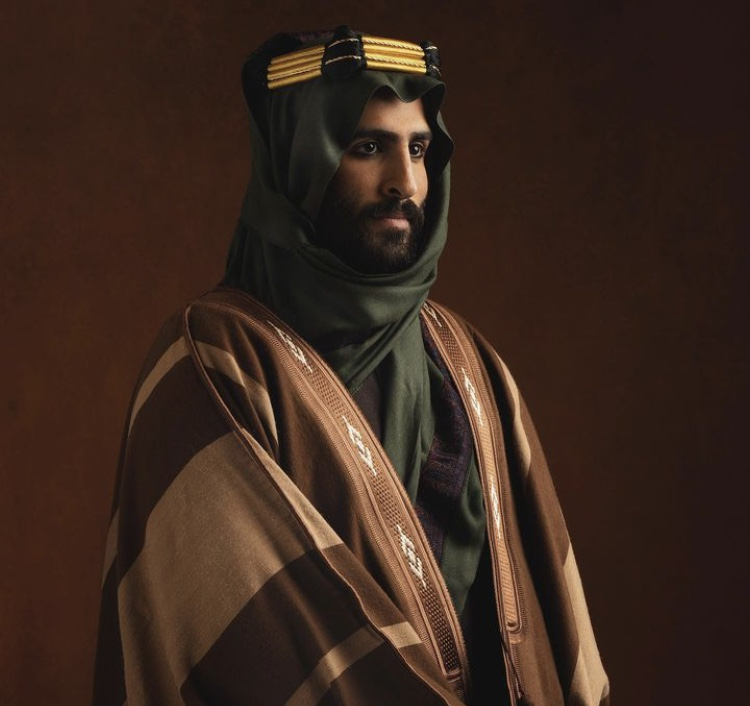Saudi_Founding_Day: (87, 23, 613, 706)
